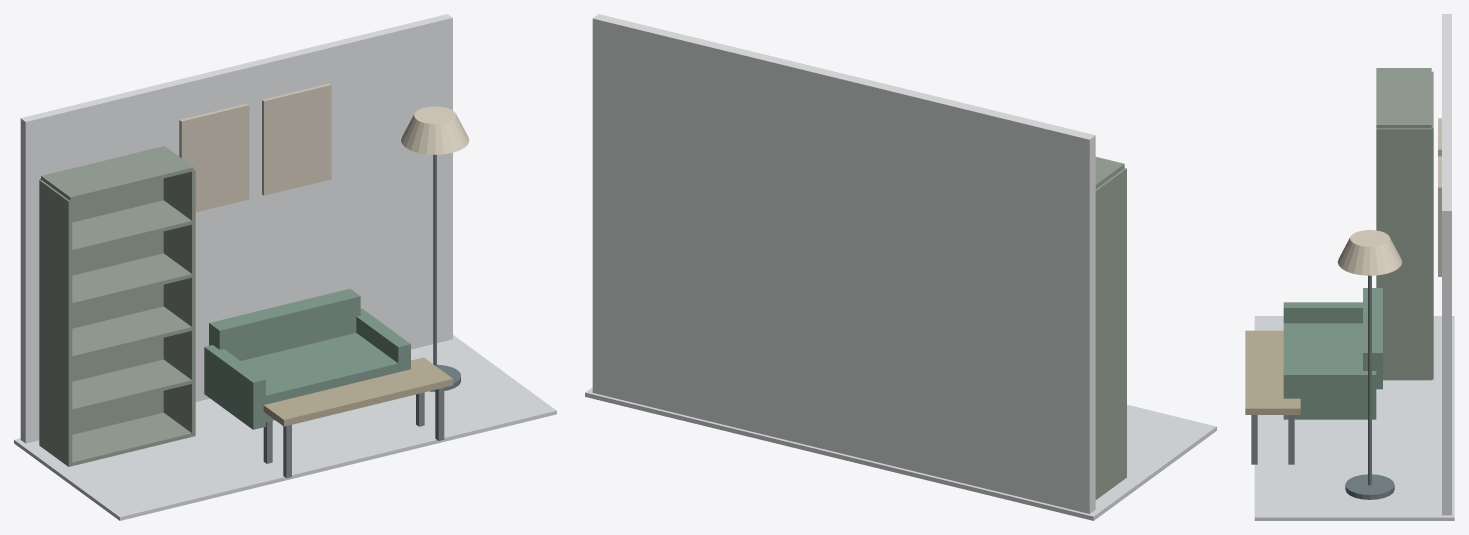
3 views of the same model, side by side, from view 1: azimuth 30°, elevation 25°; view 2: azimuth 150°, elevation 25°; view 3: azimuth 270°, elevation 25° (orthographic). The views are drawn at different scales.
Parts seen in each view (by area): view 1: fixtures (×6), walls, floor, graphic; view 2: walls, fixtures, floor; view 3: fixtures (×6), floor, walls, graphic.
Part boxes in pixels (x1,y1,x2,y2): fixtures (×6): (39, 106, 469, 478); walls: (20, 14, 452, 443); floor: (14, 335, 556, 520); graphic: (179, 83, 331, 212); walls: (592, 14, 1095, 513); fixtures: (1095, 157, 1126, 499); floor: (585, 387, 1216, 520); fixtures (×6): (1245, 68, 1433, 499); floor: (1254, 316, 1454, 520); walls: (1442, 14, 1451, 515); graphic: (1438, 118, 1441, 276).
Size of the model in its own units: 3.1 by 2.21 by 1.36.
